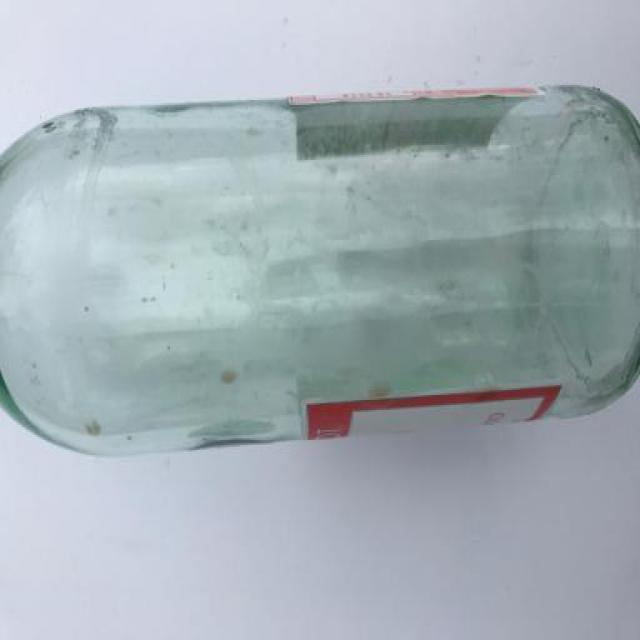glass: (0, 81, 640, 462)
